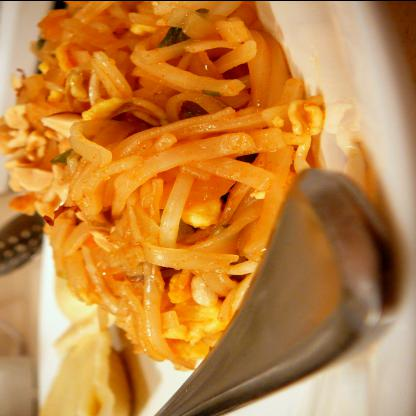Namprig: (0, 1, 356, 368)
